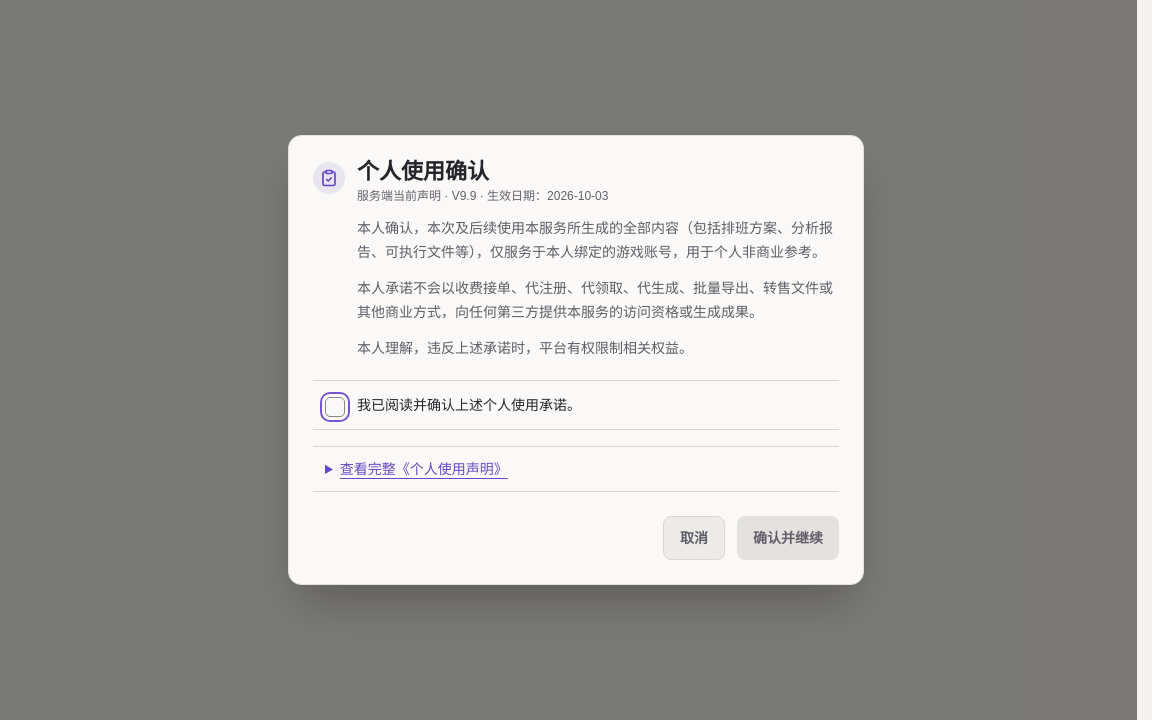
it: PersonalUseDeclarationDialog › shows the server document inline without navigating away
Expected: the text "服务端当前声明 · V9.9 · 生效日期：2026-10-03" is shown, [357, 189, 608, 203]
Step 1. Click the heading "查看完整《个人使用声明》" → (424, 469), box [340, 461, 508, 477]
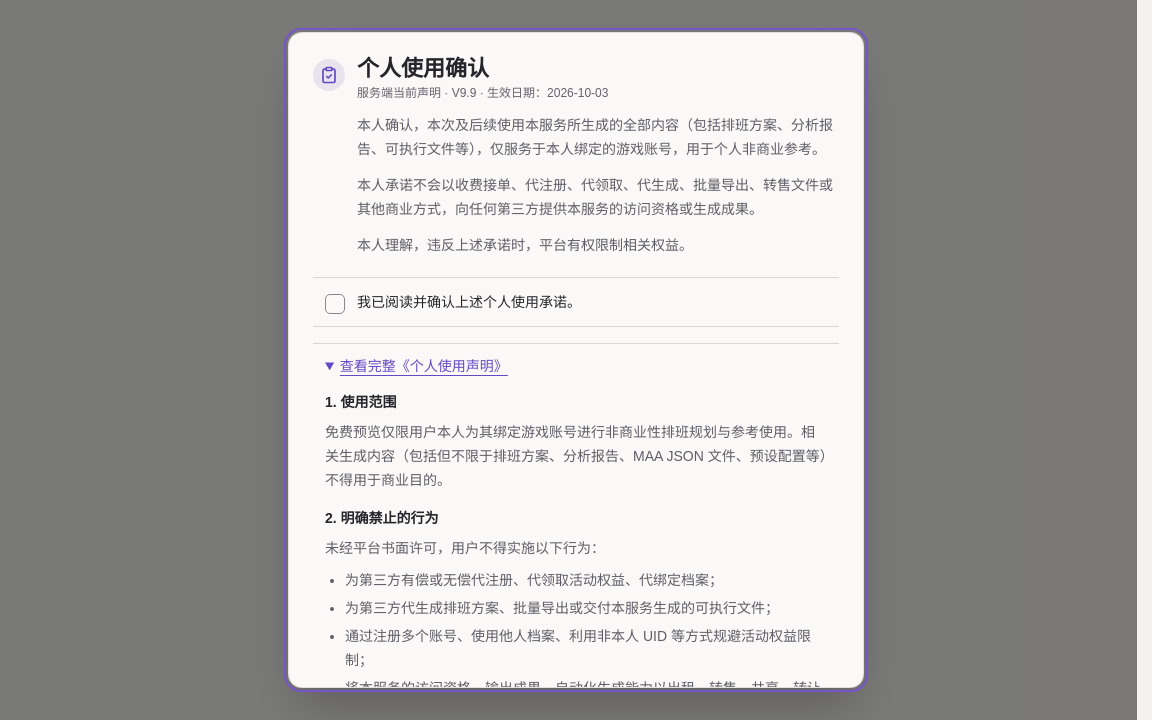
Result: the heading "1. 使用范围" is shown at [325, 394, 397, 410]
